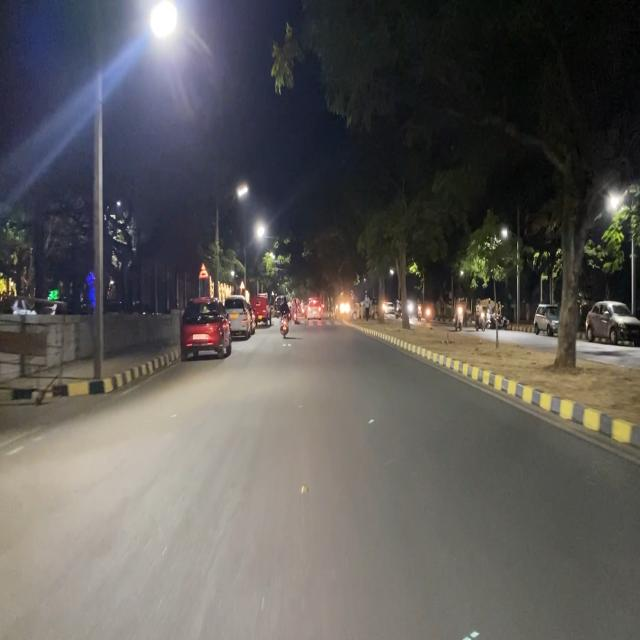bien_cam: (198, 261, 208, 280)
